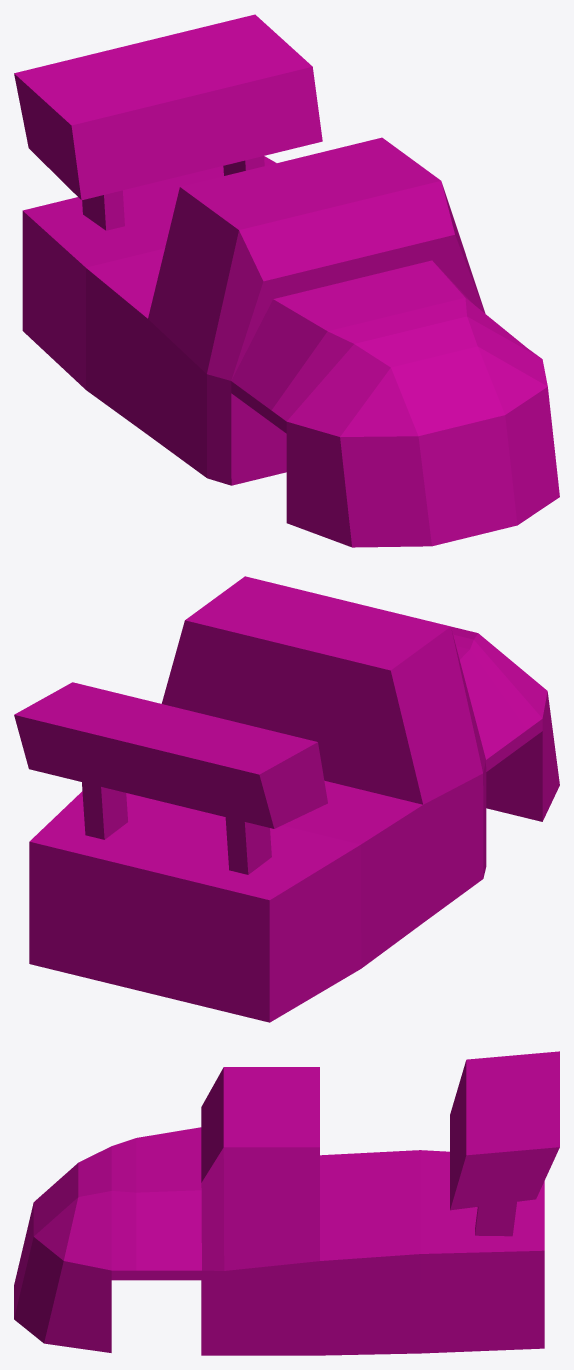
File: SM_Veh_Truck_Preset_03_Collision.fbx
3 renders of one model, top to bottom at view 1: azimuth 30°, elevation 25°; view 2: azimuth 150°, elevation 25°; view 3: azimuth 270°, elevation 25°, orthographic. The views are drawn at different scales.
Parts seen in each view (by area): view 1: SM_Veh_Truck_Preset_03_Collision; view 2: SM_Veh_Truck_Preset_03_Collision; view 3: SM_Veh_Truck_Preset_03_Collision.
Boxes of the visible parts, x1,y1,x2,y2 form: SM_Veh_Truck_Preset_03_Collision: (14, 14, 559, 547); SM_Veh_Truck_Preset_03_Collision: (14, 576, 559, 1022); SM_Veh_Truck_Preset_03_Collision: (14, 1051, 559, 1355).
Bounding box in the file's own units: 335 × 300 × 730.
